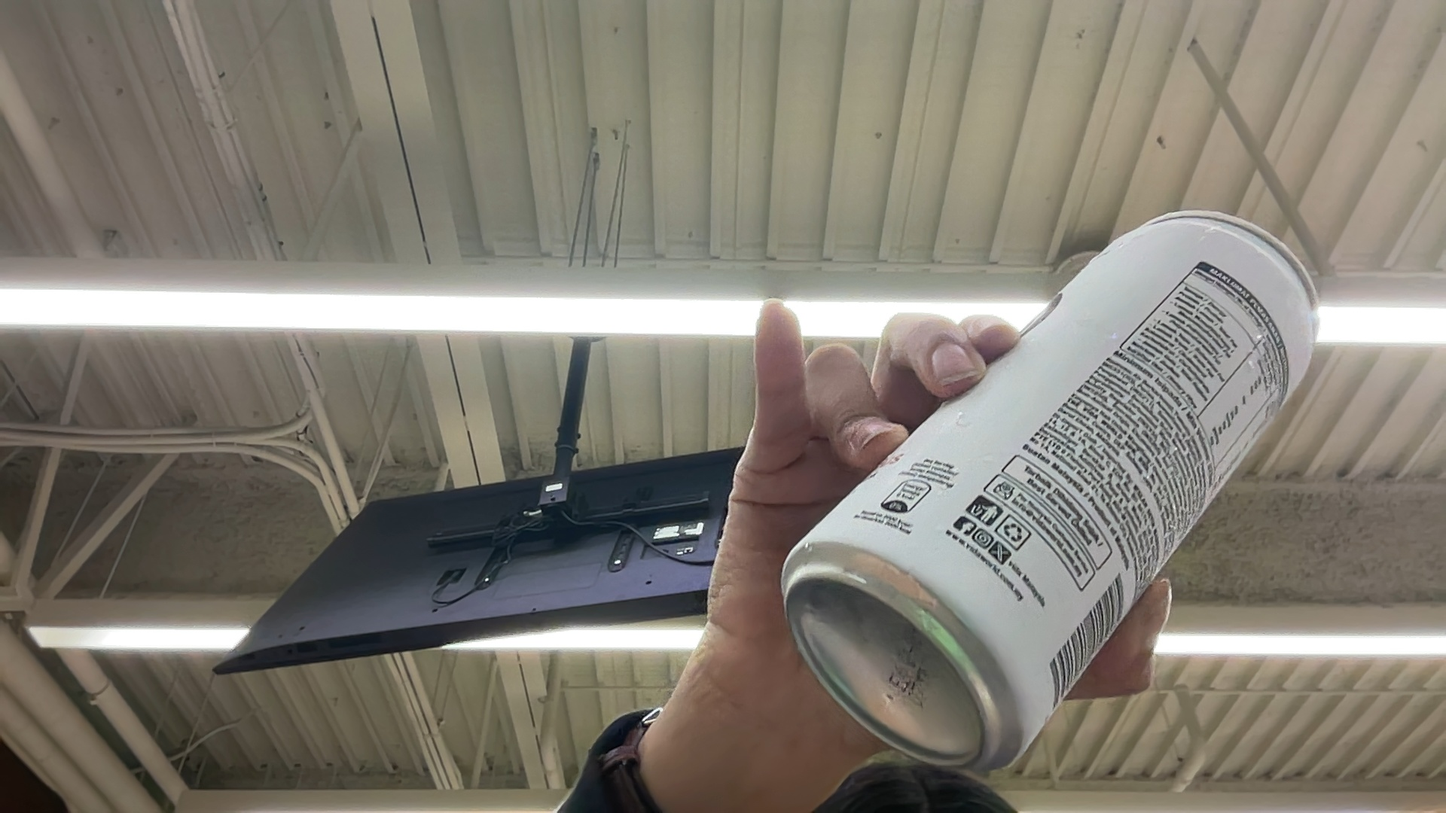Metal: (751, 203, 1410, 766)
